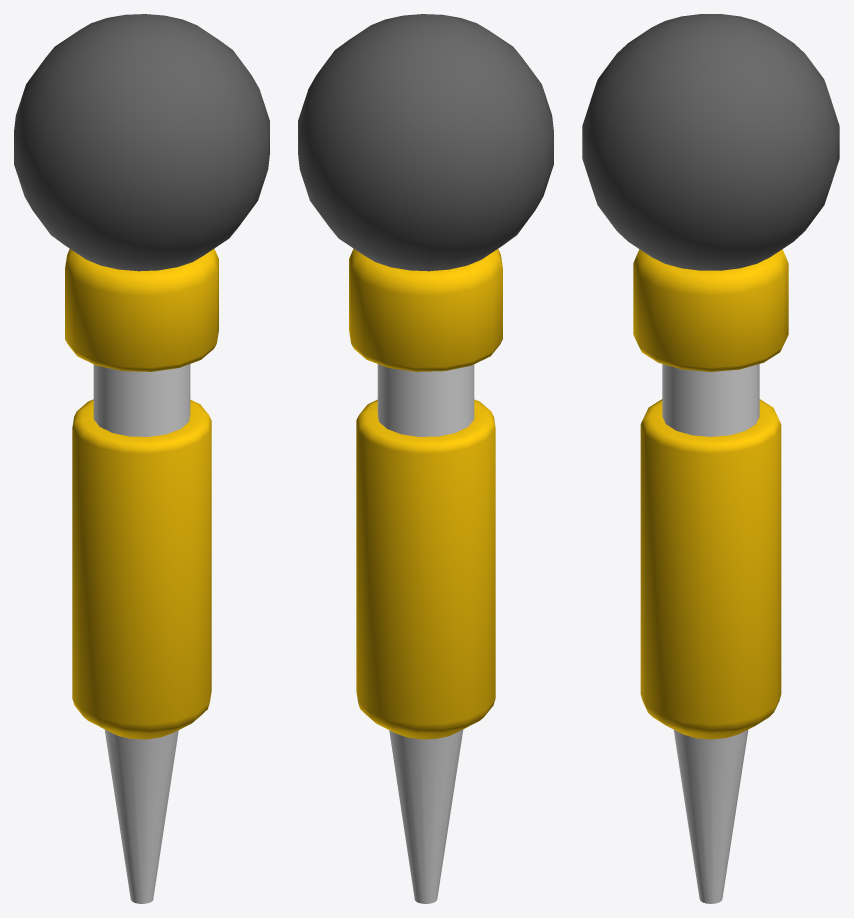
File: DecorMachine_Pastry_MachineLines.FBX
3 renders of one model, left to right at view 1: azimuth 30°, elevation 25°; view 2: azimuth 150°, elevation 25°; view 3: azimuth 270°, elevation 25°, orthographic.
Visible parts, largest first — view 1: DecorMachine_Pastry_MachineLines; view 2: DecorMachine_Pastry_MachineLines; view 3: DecorMachine_Pastry_MachineLines.
Part boxes in pixels (left/top/right/bottom): DecorMachine_Pastry_MachineLines: left=14, top=14, right=269, bottom=903; DecorMachine_Pastry_MachineLines: left=298, top=14, right=553, bottom=903; DecorMachine_Pastry_MachineLines: left=582, top=14, right=839, bottom=903.
Size of the model in its own units: 1745 by 6616 by 1763.
